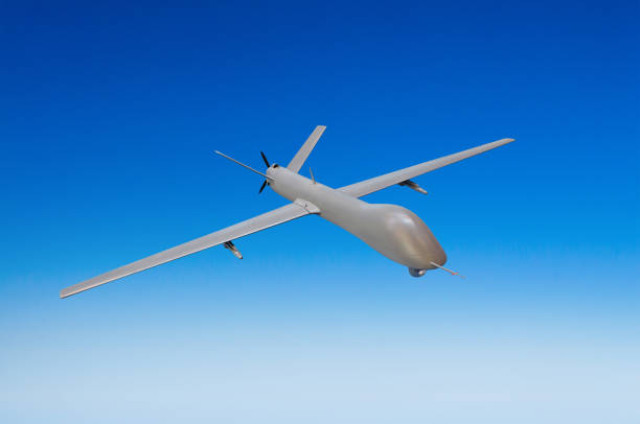military drone: (59, 125, 514, 299)
